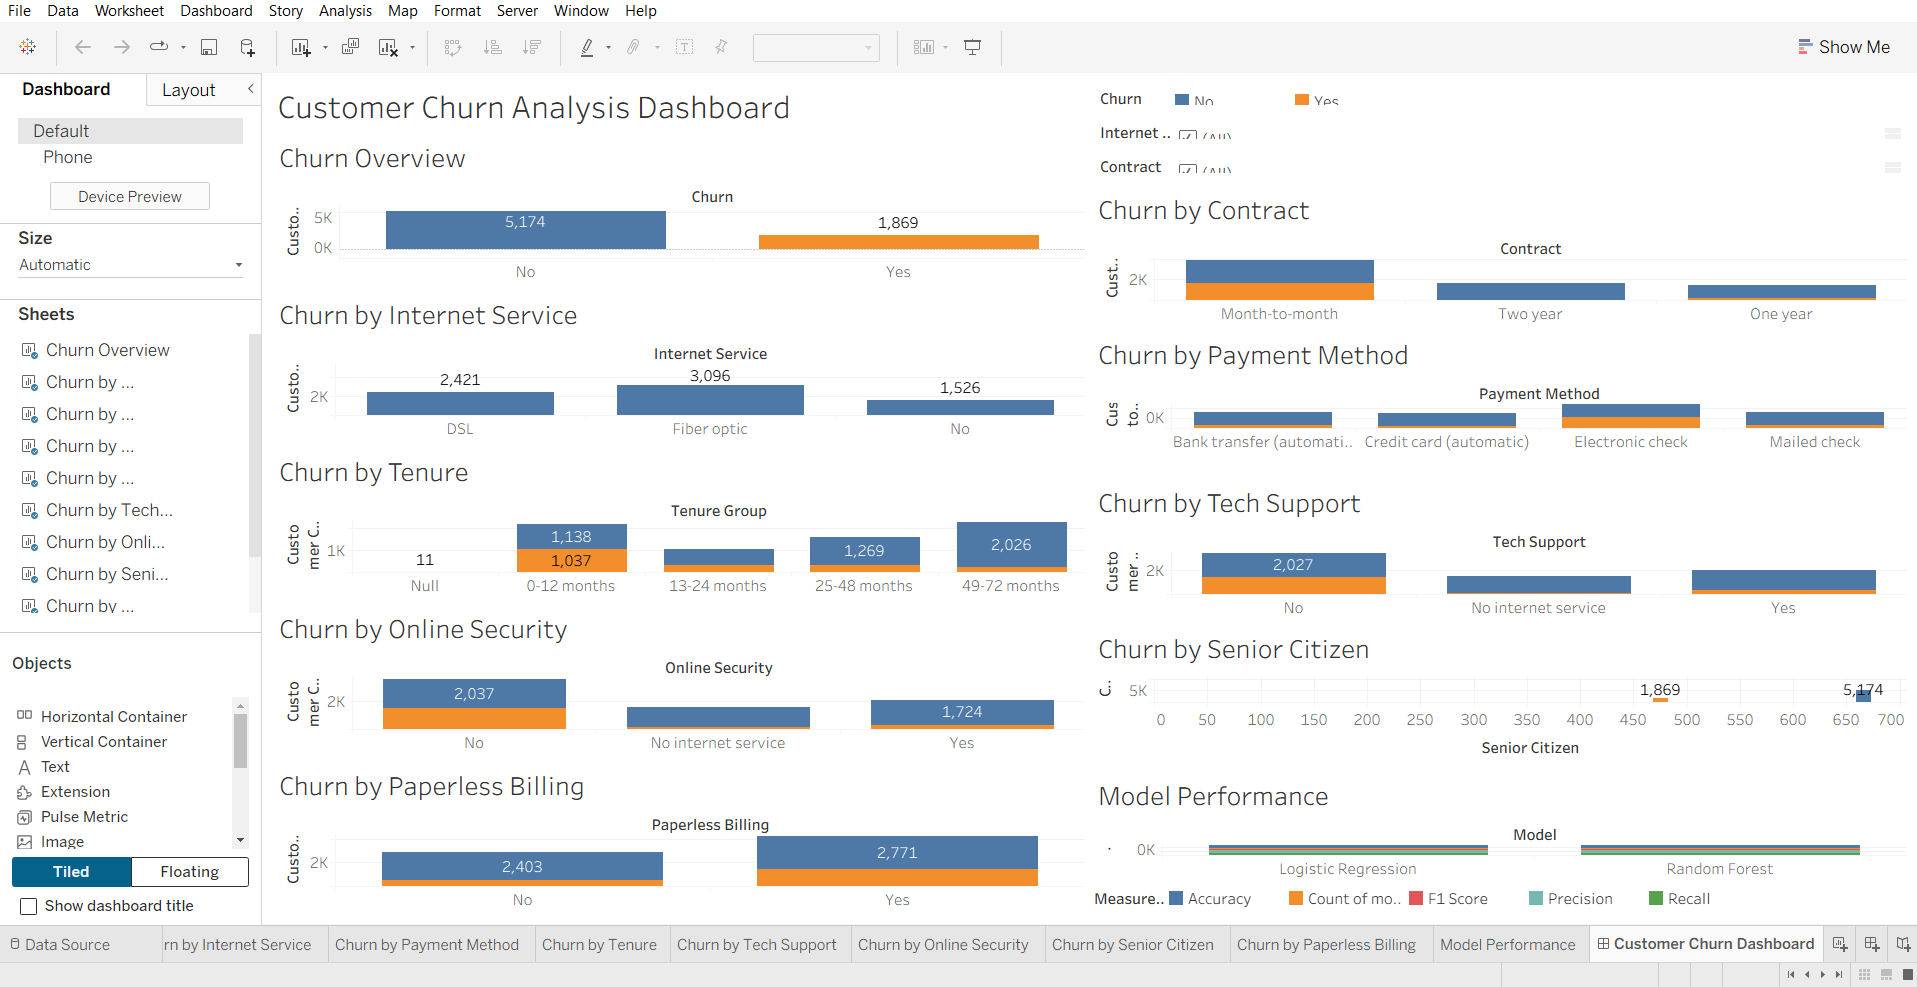

Layout of this report page (visuals, bound fields, positions):
{"tool":"tableau","page":{"name":"Customer Churn Dashboard","canvas":[1000,1000],"units":"permille","ordinal":0},"visuals":[{"type":"title","box":[4.8,9.4,494.9,58.8]},{"type":"legend","title":"Churn Overview","param":"[federated.0y1us2d1m4nack10m6d2k158b40e].[none:Churn:nk]","box":[499.7,9.4,495.5,40]},{"type":"filter","title":"Churn by Internet Service","param":"[federated.0y1us2d1m4nack10m6d2k158b40e].[none:InternetService:nk]","box":[499.7,49.4,495.5,40.5]},{"type":"worksheet","title":"Churn Overview","mark":"Bar","rows":["Calculation_0991253323337728"],"cols":["Churn"],"box":[4.8,68.2,494.9,184.5]},{"type":"filter","title":"Churn by Contract","param":"[federated.0y1us2d1m4nack10m6d2k158b40e].[none:Contract:nk]","box":[499.7,89.9,495.5,40.5]},{"type":"worksheet","title":"Churn by Contract","mark":"Bar","rows":["Calculation_0991253323337728"],"cols":["Contract"],"box":[499.7,130.4,495.5,170.4]},{"type":"worksheet","title":"Churn by Internet Service","mark":"Bar","rows":["Calculation_0991253323337728"],"cols":["InternetService"],"box":[4.8,252.6,494.9,184.5]},{"type":"worksheet","title":"Churn by Payment Method","mark":"Bar","rows":["Calculation_0991253323337728"],"cols":["PaymentMethod"],"box":[499.7,300.8,495.5,150.4]},{"type":"worksheet","title":"Churn by Tenure","mark":"Bar","rows":["Calculation_0991253323337728"],"cols":["TenureGroup"],"box":[4.8,437.1,494.9,184.5]},{"type":"worksheet","title":"Churn by Tech Support","mark":"Bar","rows":["Calculation_0991253323337728"],"cols":["TechSupport"],"box":[499.7,474.5,495.5,172]},{"type":"worksheet","title":"Churn by Online Security","mark":"Bar","rows":["Calculation_0991253323337728"],"cols":["OnlineSecurity"],"box":[4.8,621.6,494.9,184.5]},{"type":"worksheet","title":"Churn by Senior Citizen","mark":"Bar","rows":["Calculation_0991253323337728"],"cols":["SeniorCitizen"],"box":[499.7,646.5,495.5,172]},{"type":"worksheet","title":"Churn by Paperless Billing","mark":"Bar","rows":["Calculation_0991253323337728"],"cols":["PaperlessBilling"],"box":[4.8,806.1,494.9,184.5]},{"type":"worksheet","title":"Model Performance","mark":"Bar","cols":["Model"],"box":[499.7,818.6,495.5,134.4]},{"type":"legend","title":"Model Performance","param":"[federated.1ngp7n614buk6k1aoqs7m1wsza06].[:Measure Names]","box":[499.7,953,495.5,37.6]}]}

Visuals, with their boxes on the dashboard's canvas, which has no fixed pixel size, in thousandths of its width and height (x1, y1, x2, y2). These are canvas units, not pixel positions in the 1917x987 screenshot, which may show the page scaled, cropped or inside an application window:
title: pyautogui.locateOnScreen(5, 9, 500, 68)
"Churn Overview" legend: pyautogui.locateOnScreen(500, 9, 995, 49)
"Churn by Internet Service" filter: pyautogui.locateOnScreen(500, 49, 995, 90)
"Churn Overview" worksheet (Bar marks): pyautogui.locateOnScreen(5, 68, 500, 253)
"Churn by Contract" filter: pyautogui.locateOnScreen(500, 90, 995, 130)
"Churn by Contract" worksheet (Bar marks): pyautogui.locateOnScreen(500, 130, 995, 301)
"Churn by Internet Service" worksheet (Bar marks): pyautogui.locateOnScreen(5, 253, 500, 437)
"Churn by Payment Method" worksheet (Bar marks): pyautogui.locateOnScreen(500, 301, 995, 451)
"Churn by Tenure" worksheet (Bar marks): pyautogui.locateOnScreen(5, 437, 500, 622)
"Churn by Tech Support" worksheet (Bar marks): pyautogui.locateOnScreen(500, 474, 995, 646)
"Churn by Online Security" worksheet (Bar marks): pyautogui.locateOnScreen(5, 622, 500, 806)
"Churn by Senior Citizen" worksheet (Bar marks): pyautogui.locateOnScreen(500, 646, 995, 818)
"Churn by Paperless Billing" worksheet (Bar marks): pyautogui.locateOnScreen(5, 806, 500, 991)
"Model Performance" worksheet (Bar marks): pyautogui.locateOnScreen(500, 819, 995, 953)
"Model Performance" legend: pyautogui.locateOnScreen(500, 953, 995, 991)
